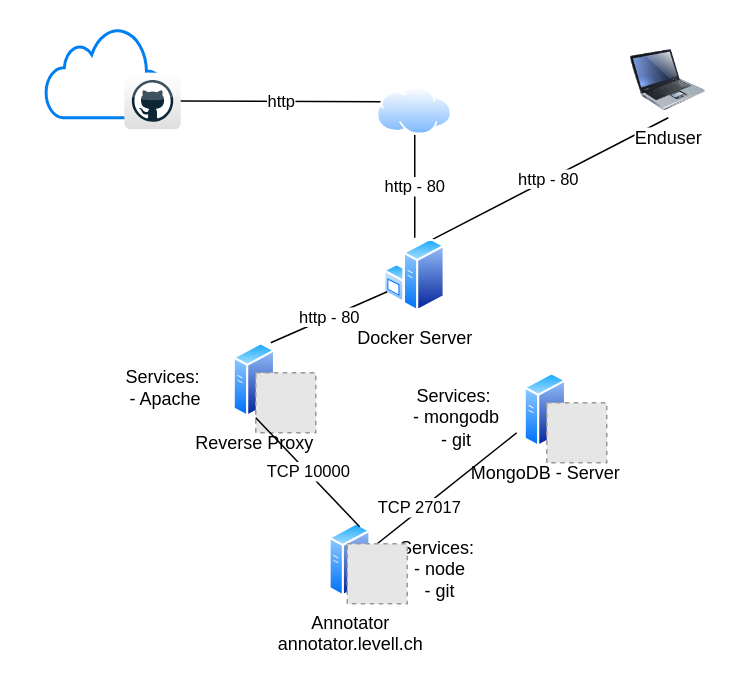
The diagram is 731 pixels wide and 681 high, and some of its shapes have lost their labels. Grey dashed boxes stand in for pictures. The box of each missing label's shape, as (x1, y1, x2, y2) in pixels:
Github.com - Code Repository - CI Action - Docker Repository: (44, 26, 166, 118)
Network: (376, 87, 452, 134)
